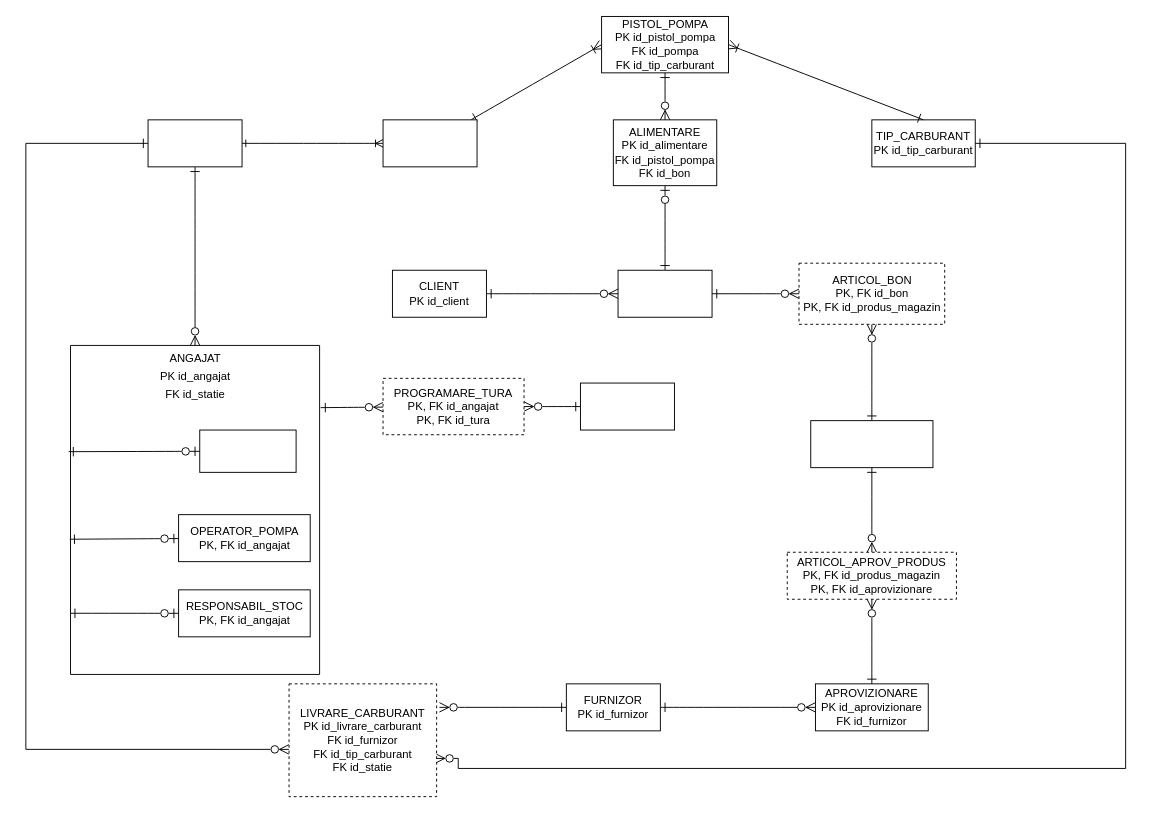
This 1152x813 diagram has some shape labels left out. The centre of each missing label's shape, as x and y in pixels:
"BON_FISCAL PK id_bon FK id_client" goes at point 664,293.
"CASIER PK, FK id_angajat" goes at point 247,450.
"POMPA PK id_pompa FK id_statie" goes at point 429,143.
"PRODUS_MAGAZIN PK id_produs_magazin" goes at point 871,444.
"STATIE PK id_statie" goes at point 194,143.
"TURA PK id_tura" goes at point 627,406.
